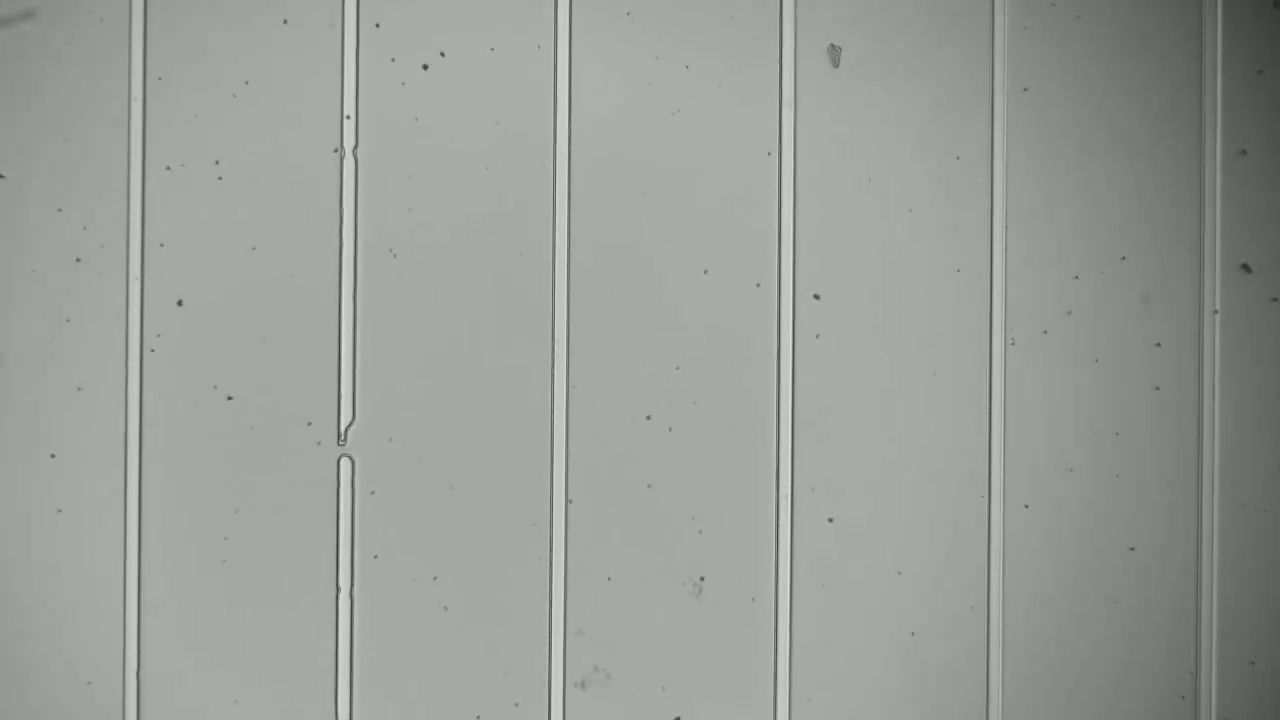edge_bite: (335, 132, 363, 168)
open: (328, 409, 366, 472)
